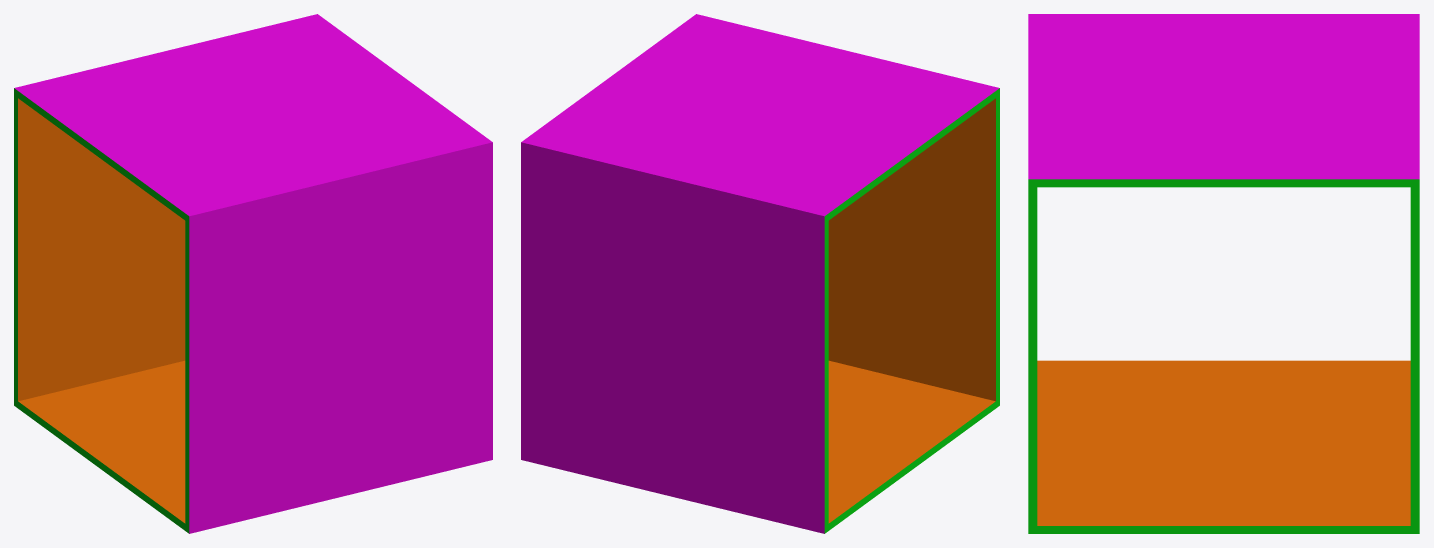
3 renders of one model, left to right at view 1: azimuth 30°, elevation 25°; view 2: azimuth 150°, elevation 25°; view 3: azimuth 270°, elevation 25°, orthographic. The views are drawn at different scales.
Visible parts, largest first — view 1: Cube; view 2: Cube; view 3: Cube.
Boxes of the visible parts, bbox=[...] form: Cube: bbox=[14, 14, 492, 533]; Cube: bbox=[521, 14, 999, 533]; Cube: bbox=[1028, 14, 1419, 533].
Size of the model in its own units: 4800 by 4800 by 4800.
